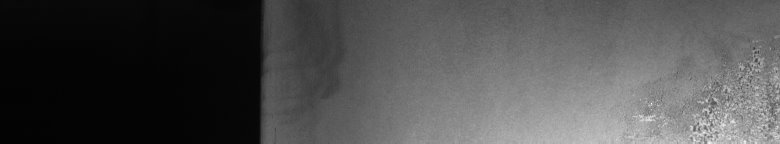hc: (632, 40, 776, 136)
